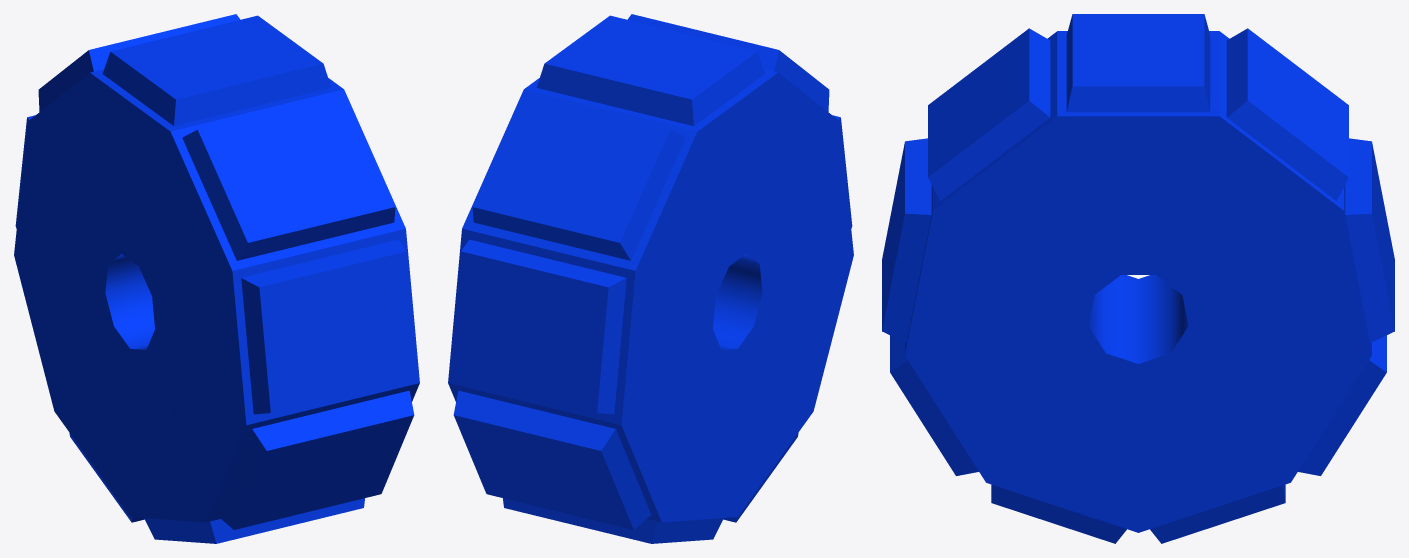
The model's file is engranaje.fbx.
The picture shows the model from 3 angles, left to right: view 1: azimuth 30°, elevation 25°; view 2: azimuth 150°, elevation 25°; view 3: azimuth 270°, elevation 25°; orthographic projection.
Visible parts, largest first — view 1: Cylinder007; view 2: Cylinder007; view 3: Cylinder007.
Part boxes in pixels (x1,y1,x2,y2): Cylinder007: (14,14,419,543); Cylinder007: (448,14,853,543); Cylinder007: (882,14,1394,543).
Size of the model in its own units: 1.25 by 3.14 by 3.18.
